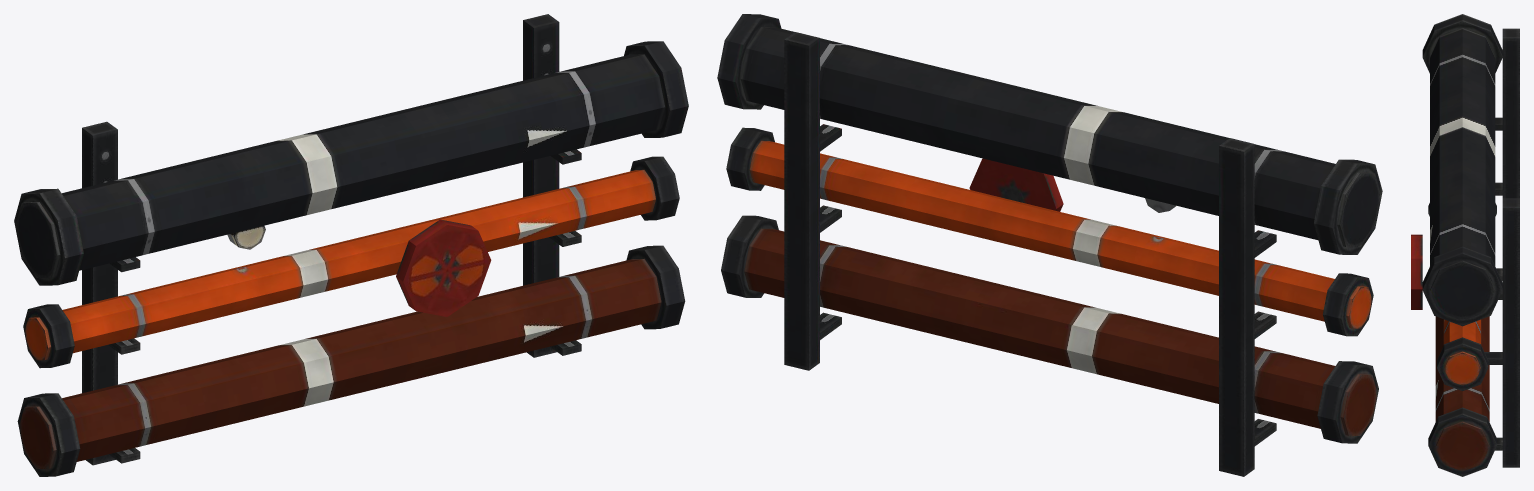
Rendered from pipe_run.glb.
3 renders of one model, left to right at view 1: azimuth 30°, elevation 25°; view 2: azimuth 150°, elevation 25°; view 3: azimuth 270°, elevation 25°, orthographic. The views are drawn at different scales.
Visible parts, largest first — view 1: pipe_run; view 2: pipe_run; view 3: pipe_run.
Part boxes in pixels (box(x1,y1,x2,y2)): pipe_run: box(14, 14, 688, 476); pipe_run: box(717, 14, 1382, 476); pipe_run: box(1411, 14, 1519, 476).
Size of the model in its own units: 2 by 1 by 0.38.
Materials: 1 (1 with a texture image).
